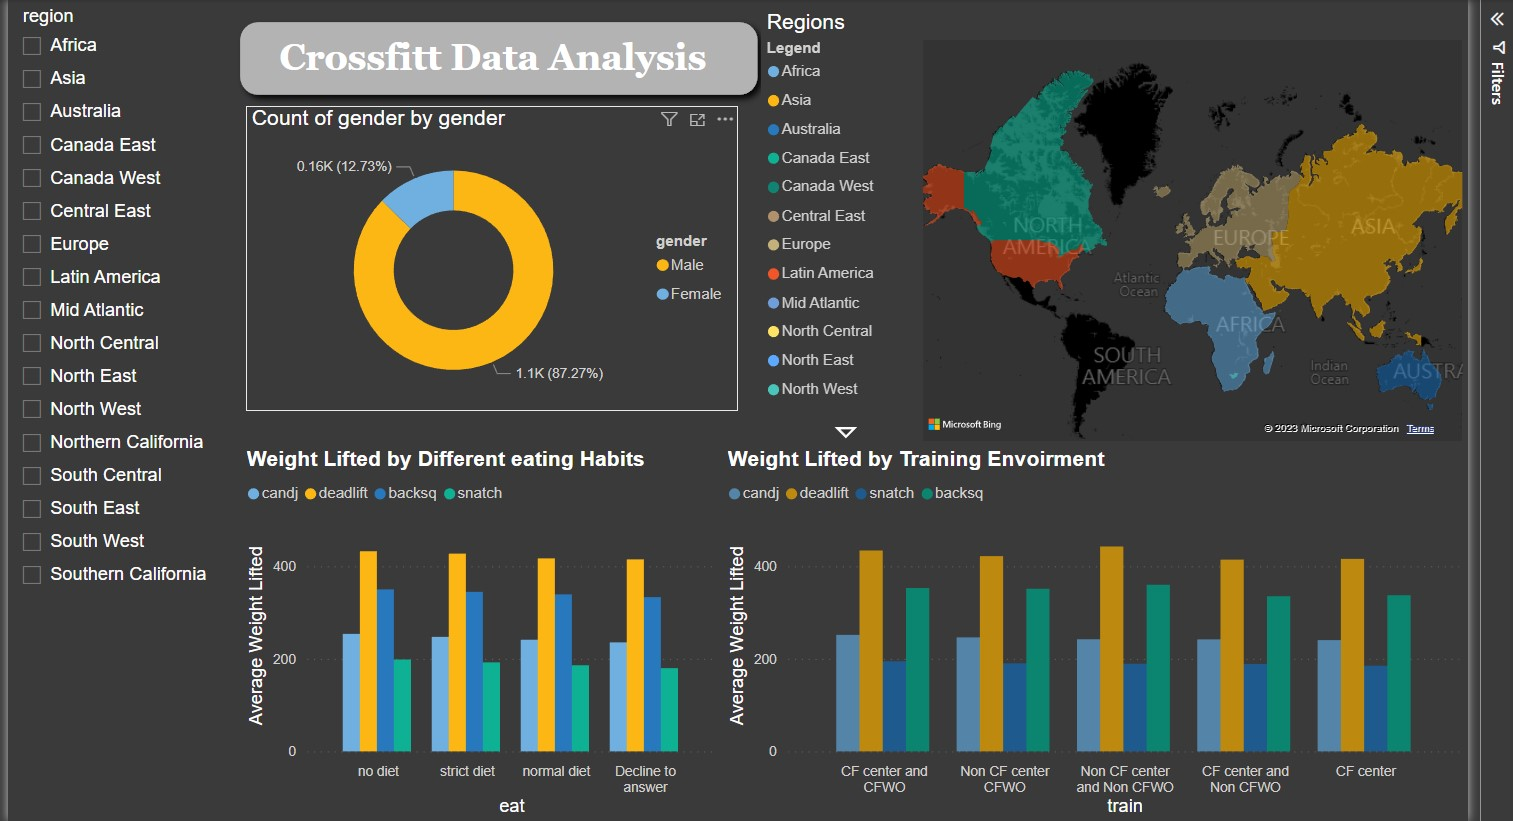

This screenshot's page, from the dashboard's own definition file:
{"tool":"powerbi","page":{"name":"Page 1","canvas":[1280,720],"ordinal":0},"visuals":[{"type":"shape","box":[192.6,8.8,474.7,84.6],"z":500},{"type":"slicer","fields":{"Values":["eda_athletes.region"]},"box":[0,0,199.1,720],"z":1000},{"type":"clusteredColumnChart","title":"Weight Lifted by Different eating Habits","fields":{"Category":["eda_athletes.eat"],"Y":["Avg(eda_athletes.candj)","Avg(eda_athletes.deadlift)","Avg(eda_athletes.backsq)","Avg(eda_athletes.snatch)"]},"box":[204.3,392,421.8,328],"z":2000},{"type":"filledMap","title":"Regions","fields":{"Category":["eda_athletes.region"],"Series":["eda_athletes.region"]},"box":[660.4,8.8,620,383.2],"z":4000},{"type":"textbox","box":[210.1,27.2,438.7,48.6],"z":5000},{"type":"donutChart","fields":{"Category":["eda_athletes.gender"],"Y":["CountNonNull(eda_athletes.gender)"]},"box":[208.7,93,431.5,267.5],"z":5001},{"type":"clusteredColumnChart","title":"Weight Lifted by Training Envoirment","fields":{"Category":["eda_athletes.train"],"Y":["Avg(eda_athletes.candj)","Avg(eda_athletes.deadlift)","Avg(eda_athletes.snatch)","Avg(eda_athletes.backsq)"]},"box":[626.2,392,654.2,328],"z":5002}]}

Visuals, with their boxes in screenshot pixels (x1, y1, x2, y2):
shape: [244, 18, 777, 113]
slicer - eda_athletes.region: [28, 8, 251, 816]
"Weight Lifted by Different eating Habits" clusteredColumnChart: [257, 448, 730, 816]
"Regions" filledMap: [769, 18, 1465, 448]
textbox: [263, 38, 756, 93]
donutChart - eda_athletes.gender x CountNonNull(eda_athletes.gender): [262, 112, 746, 413]
"Weight Lifted by Training Envoirment" clusteredColumnChart: [731, 448, 1465, 816]
